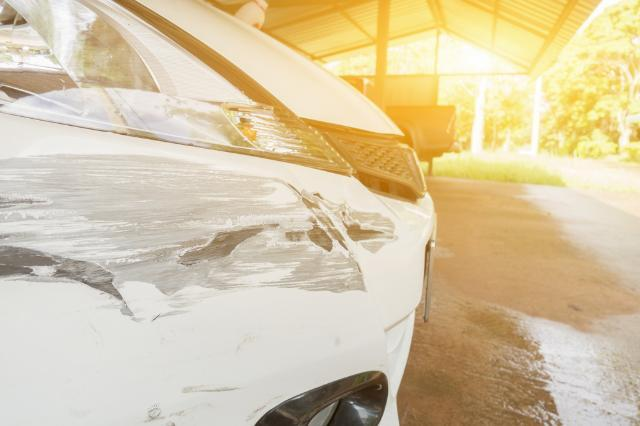scratch: (0, 152, 405, 324), (131, 383, 245, 426)
